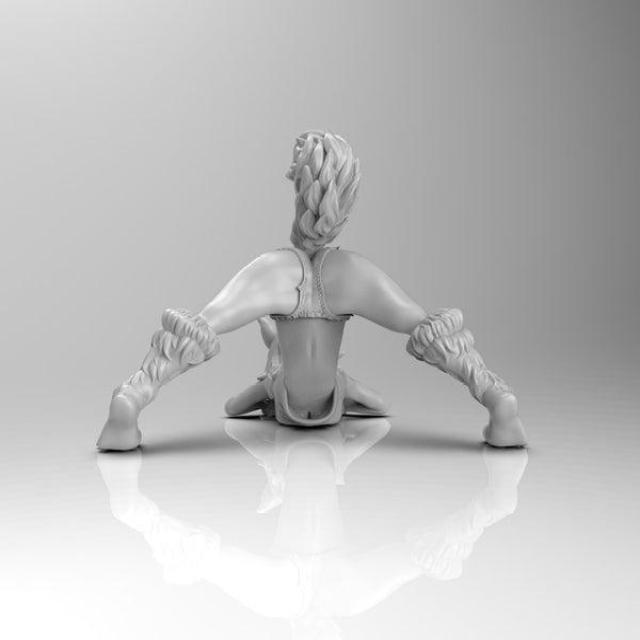Without deffect: (108, 123, 528, 504)
